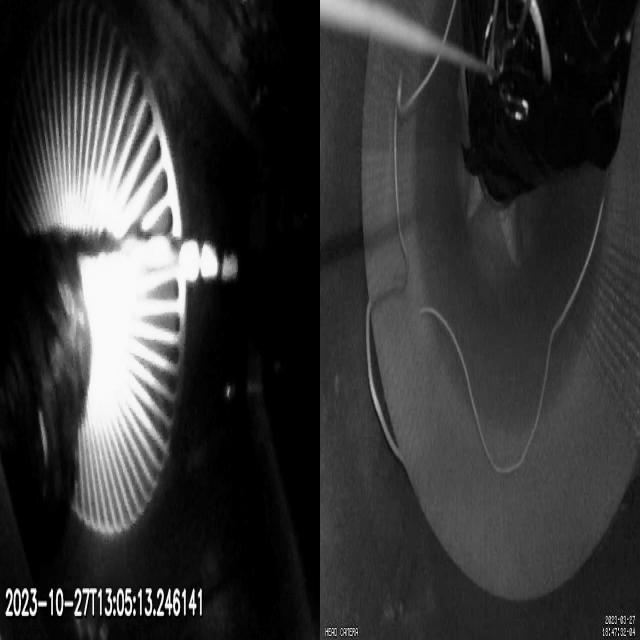white-dots: (180, 239, 238, 282)
